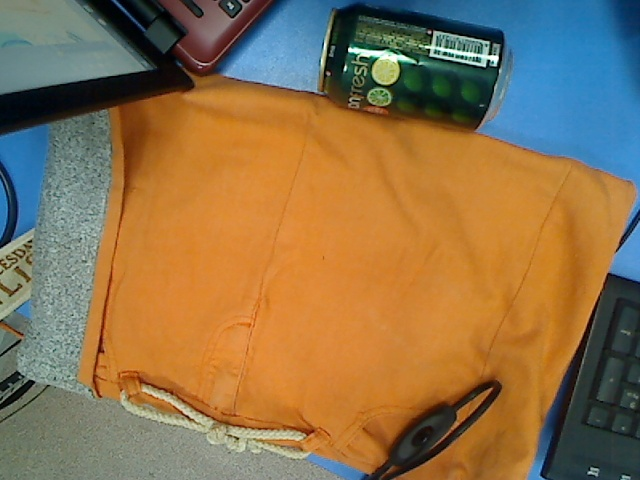can: (316, 3, 517, 132)
